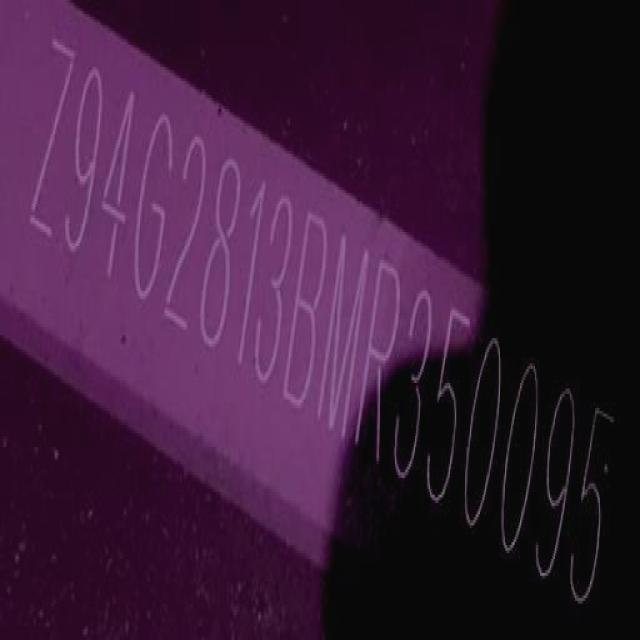0: (452, 320, 514, 550), (486, 348, 546, 574)
1: (229, 167, 273, 381)
2: (158, 123, 216, 346)
3: (386, 275, 444, 497), (246, 181, 298, 397)
4: (88, 77, 147, 295)
5: (415, 297, 476, 523), (562, 399, 621, 622)
8: (190, 141, 249, 364)
9: (525, 373, 582, 590), (56, 57, 110, 268)
B: (278, 199, 336, 425)
G: (123, 99, 182, 320)
M: (312, 223, 375, 454)
R: (349, 248, 407, 474)
Z: (22, 27, 83, 248)
